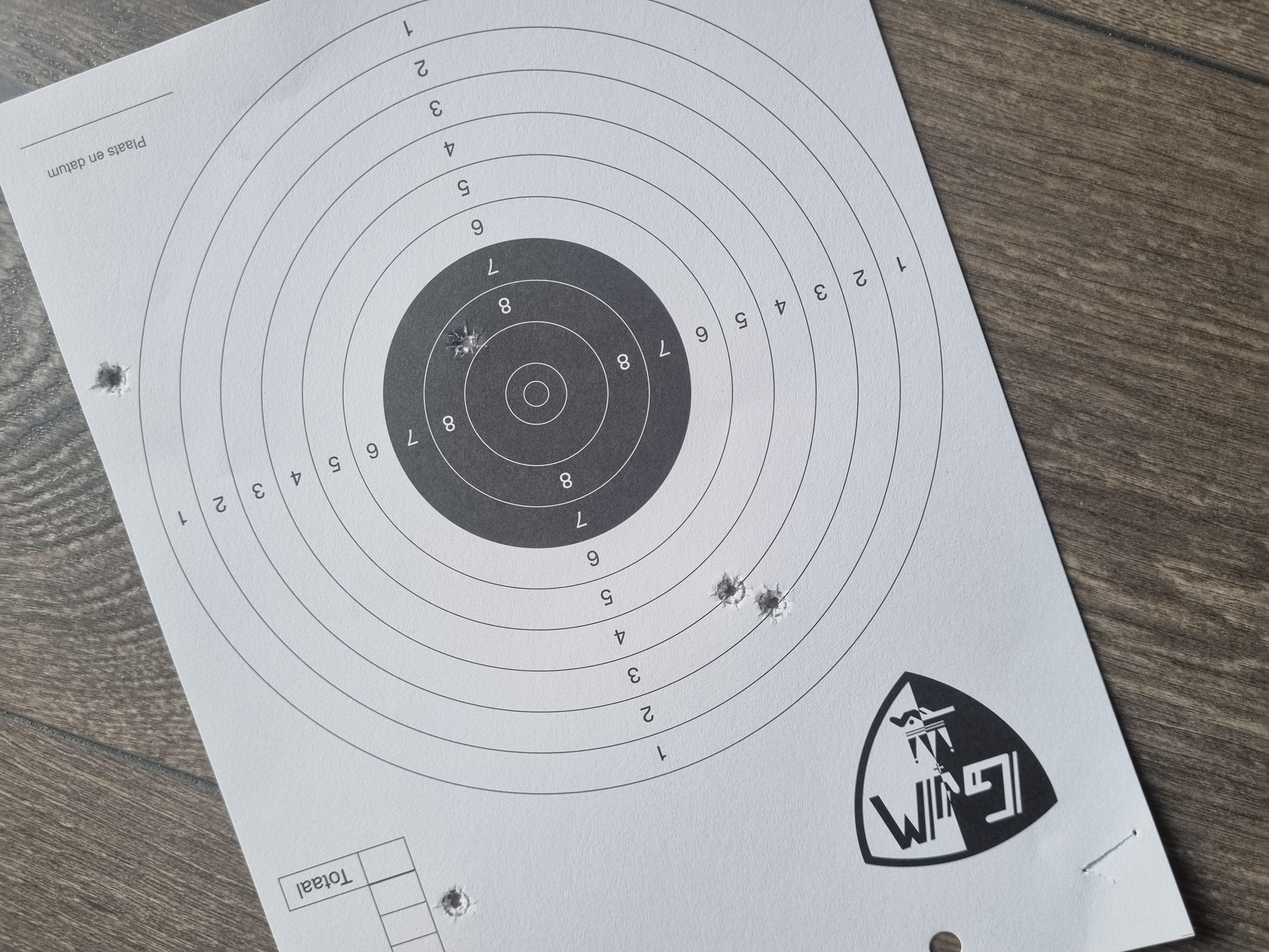hole: (37, 327, 90, 358), (457, 534, 508, 563), (741, 67, 787, 98), (437, 565, 492, 590), (788, 339, 836, 365)
